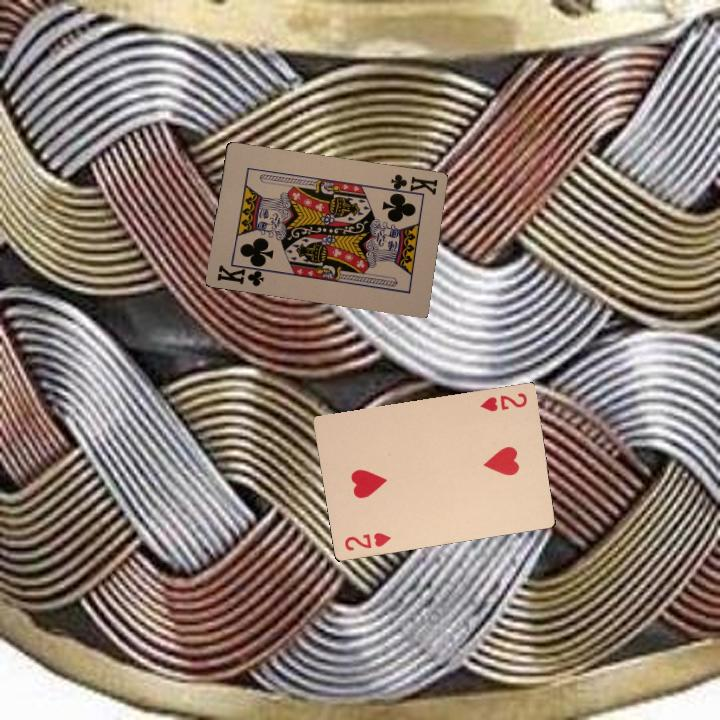2h: (476, 389, 530, 414), (340, 528, 393, 553)
Kc: (383, 170, 440, 199), (213, 260, 269, 289)
